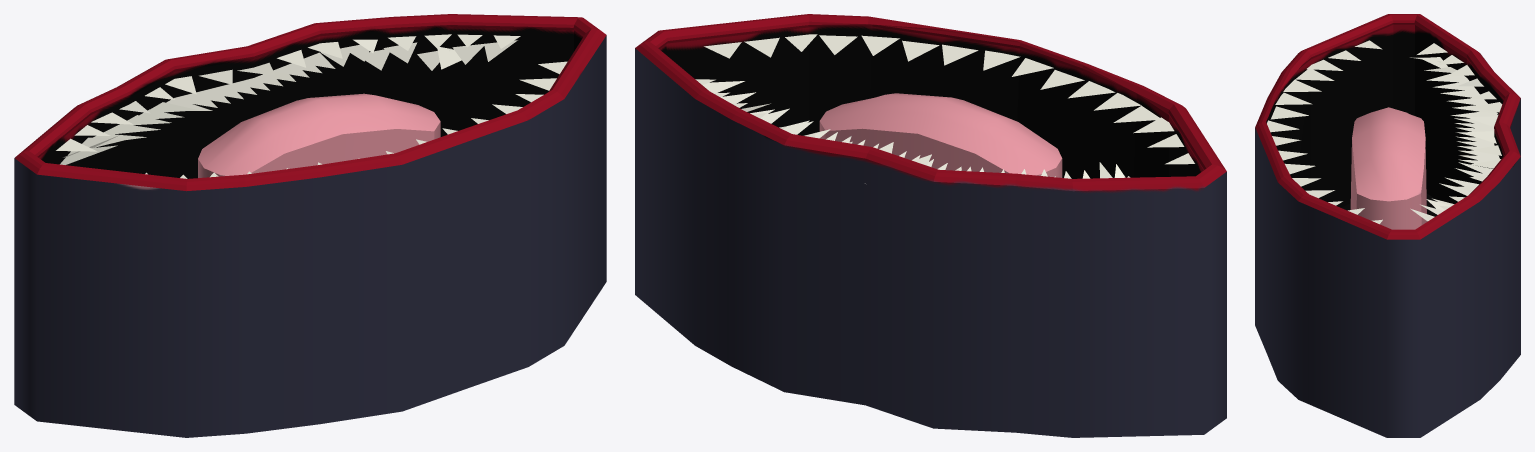
The model's file is Mouth_Animation.FBX.
The picture shows the model from 3 angles, left to right: view 1: azimuth 30°, elevation 25°; view 2: azimuth 150°, elevation 25°; view 3: azimuth 270°, elevation 25°; orthographic projection. The views are drawn at different scales.
Visible parts, largest first — view 1: Suu; view 2: Suu; view 3: Suu.
Boxes of the visible parts, x1,y1,x2,y2 form: Suu: (14,14,606,437); Suu: (635,14,1226,437); Suu: (1255,14,1520,437).
Size of the model in its own units: 26.1 by 11.08 by 13.09.
